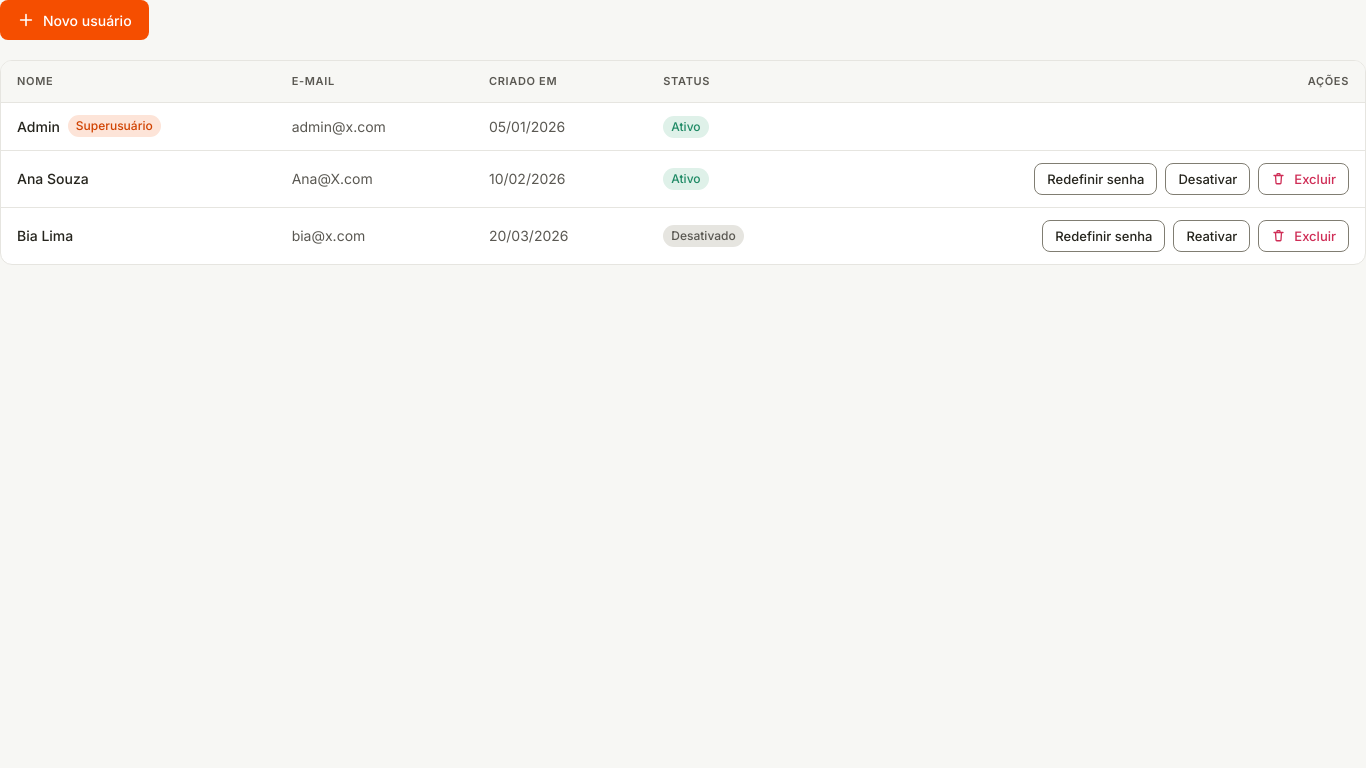
it: UsersView: redefinir senha › envia a nova senha do usuário escolhido
The width and height of the screenshot is (1366, 768).
Click the button with aria-label "Redefinir senha de Ana Souza" at (1096, 178), box 1034,162 -> 1157,194
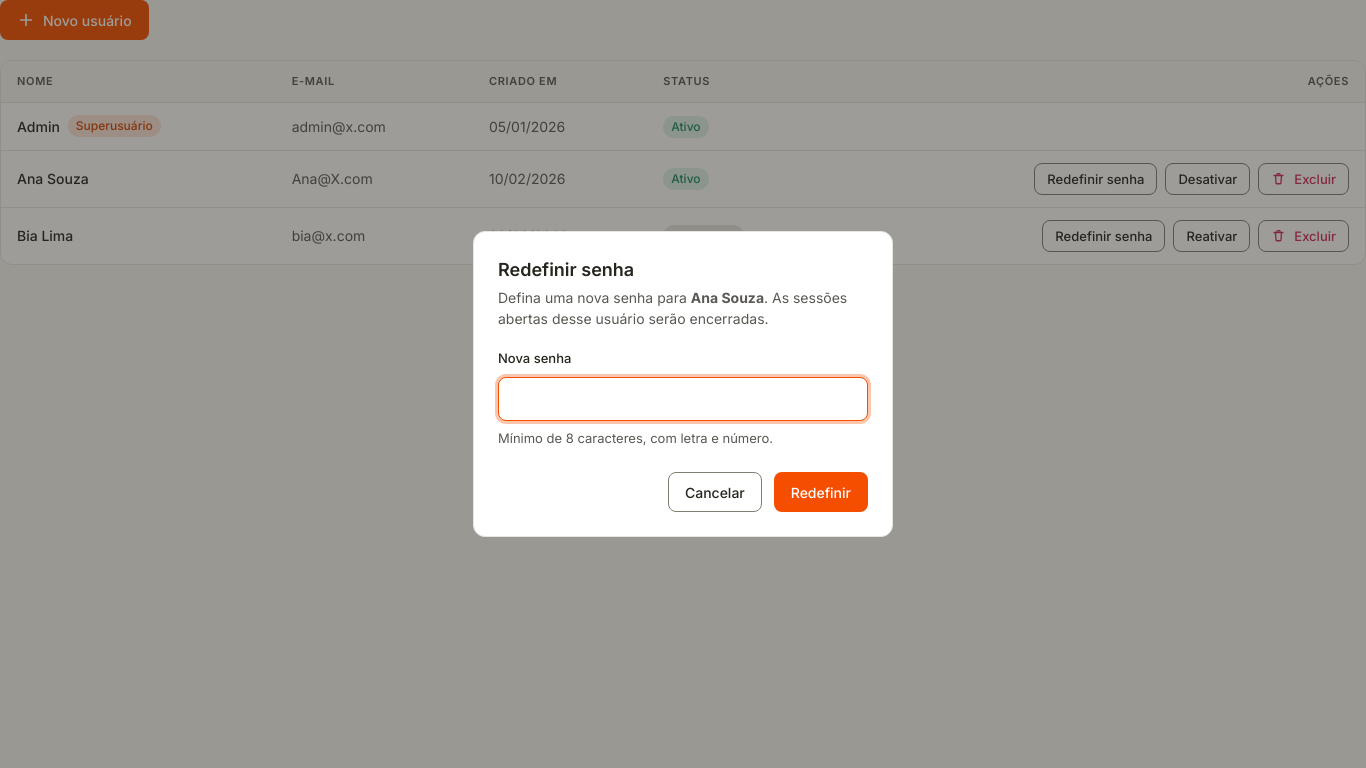
Now the dialog "Redefinir senha" shows "Ana Souza", box 691,289 -> 764,306
Type "NovaSenha99" into the password field labelled "Nova senha" at (683, 398), box 498,376 -> 868,420
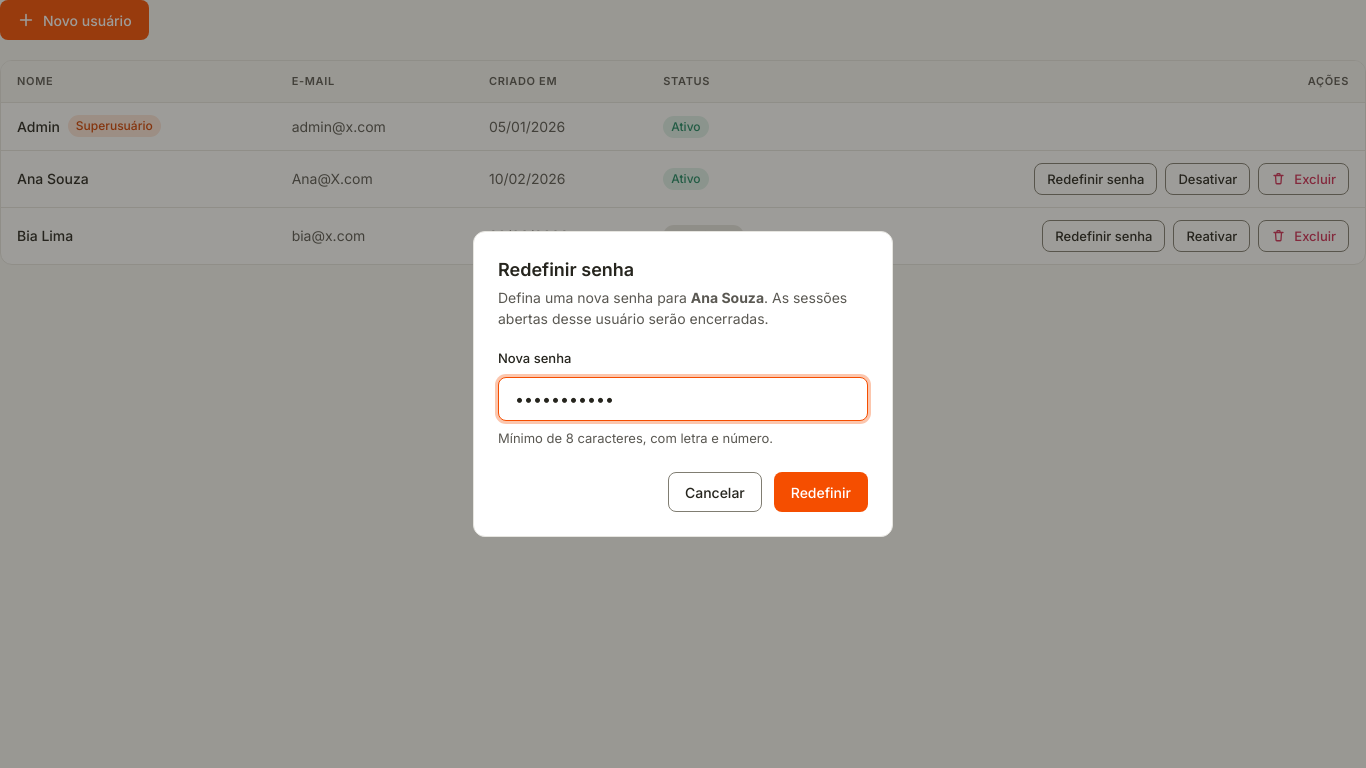
Click the button "Redefinir" at (821, 492), box 774,472 -> 868,512
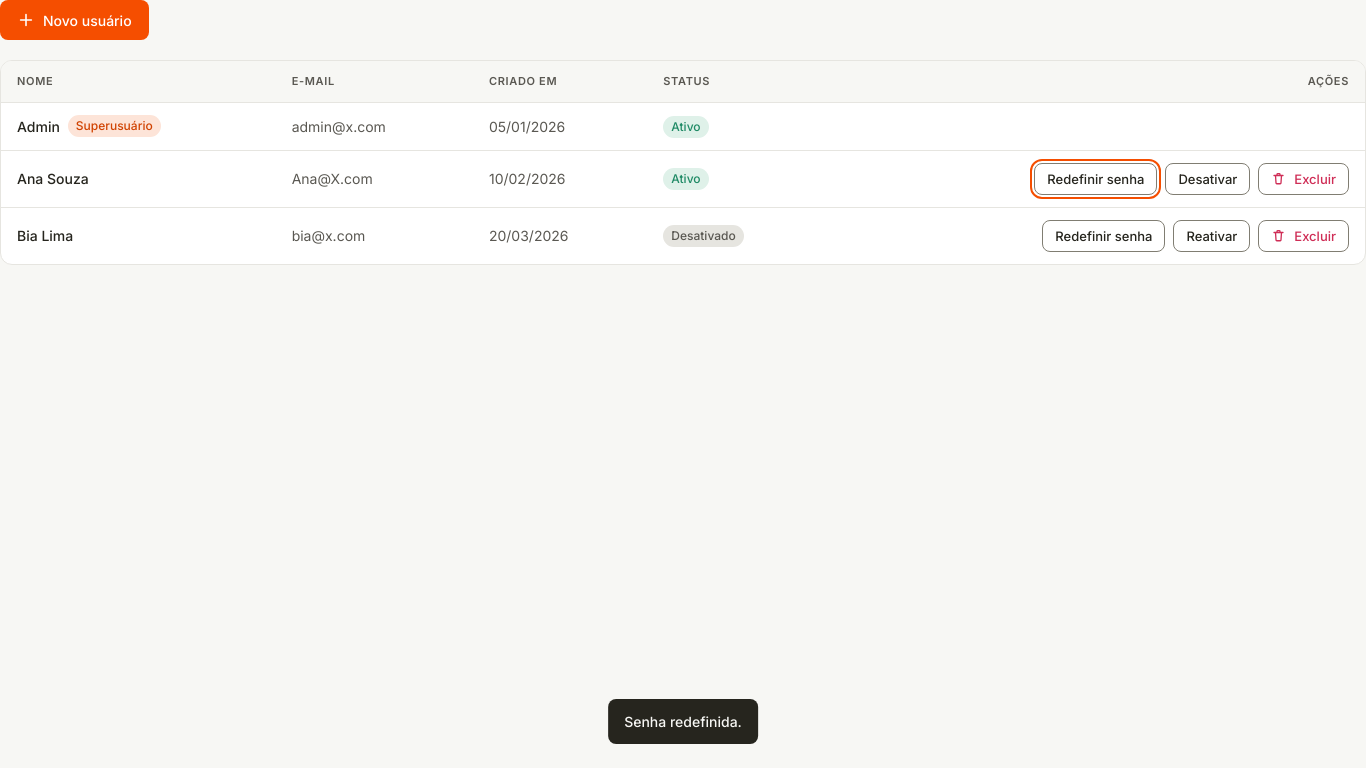
Now the message reads "Senha redefinida.", box 624,713 -> 742,730
Now the dialog is gone
